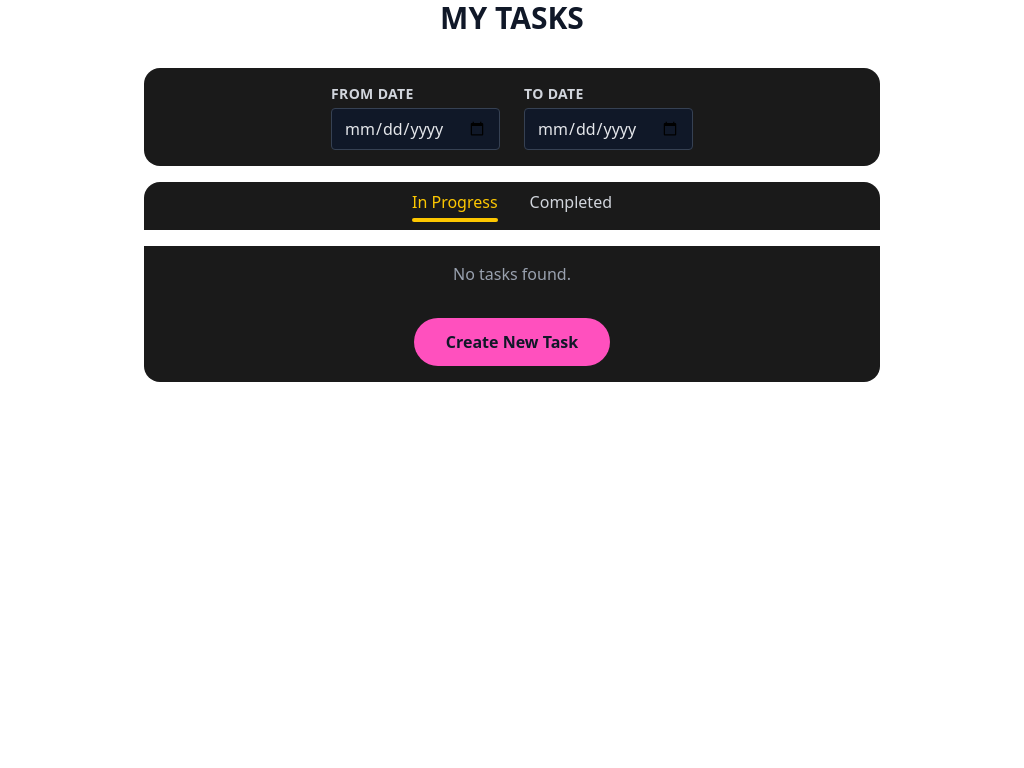
Test: Adds a new task
Click the button "Create New Task" at (512, 342), box [414,318,610,366]
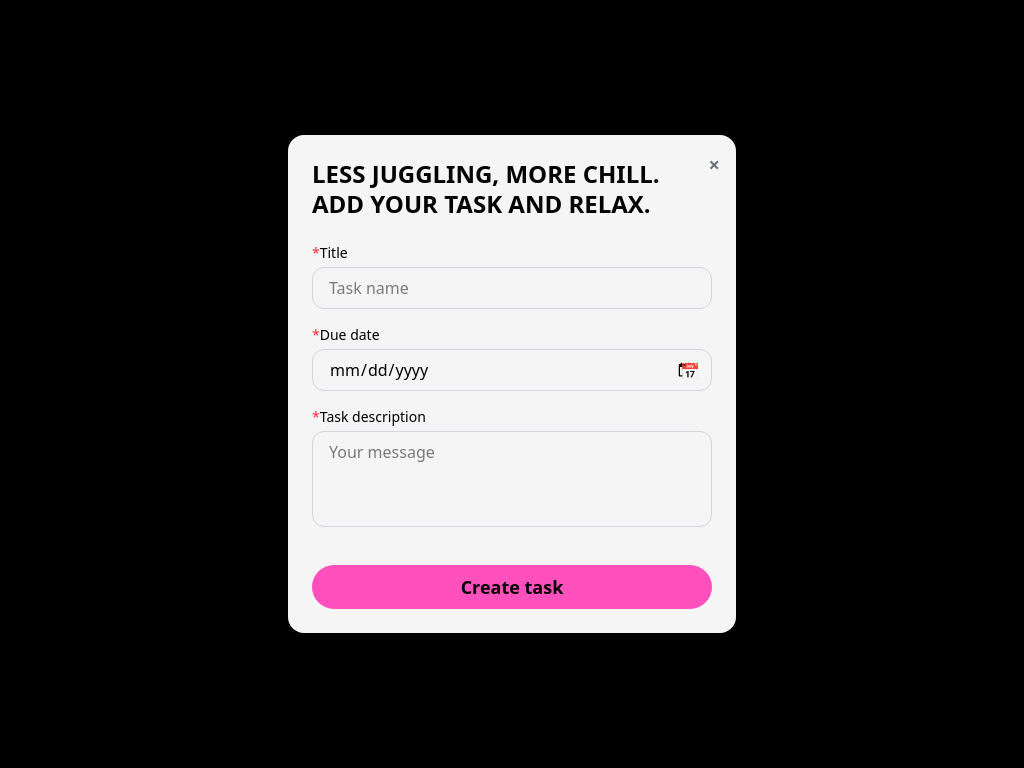
Type "New Task" into the field with test id "input-title" at (512, 288), box [312,267,712,309]
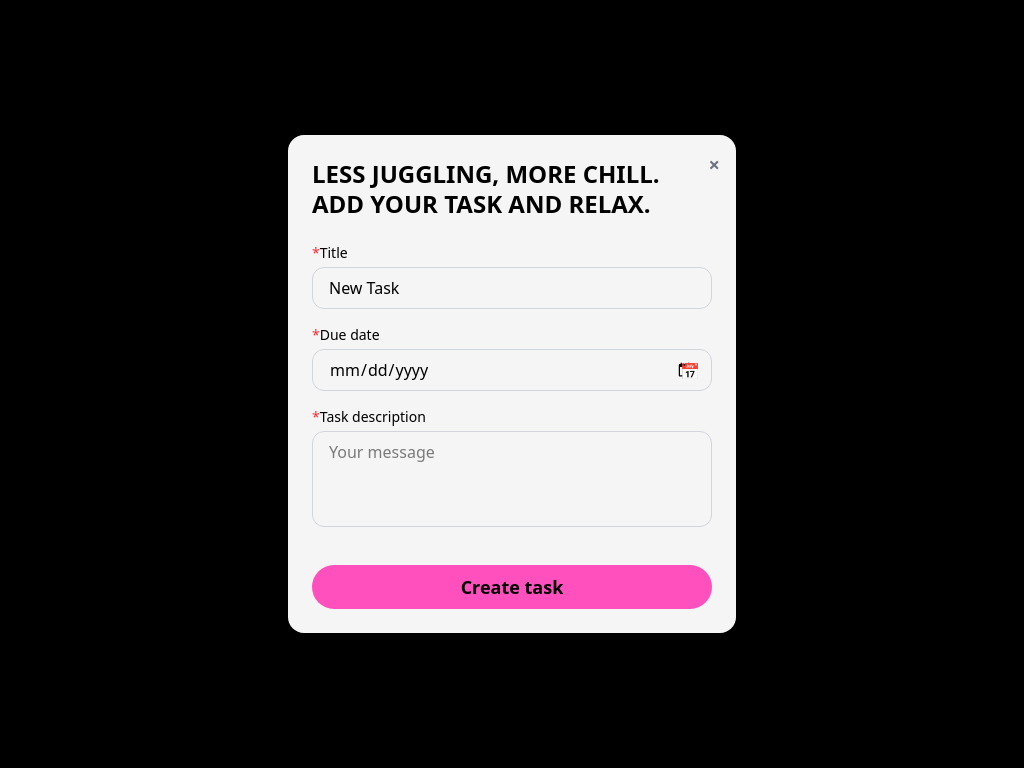
Type "Test desc" into the text box with test id "input-description" at (512, 479), box [312,431,712,527]
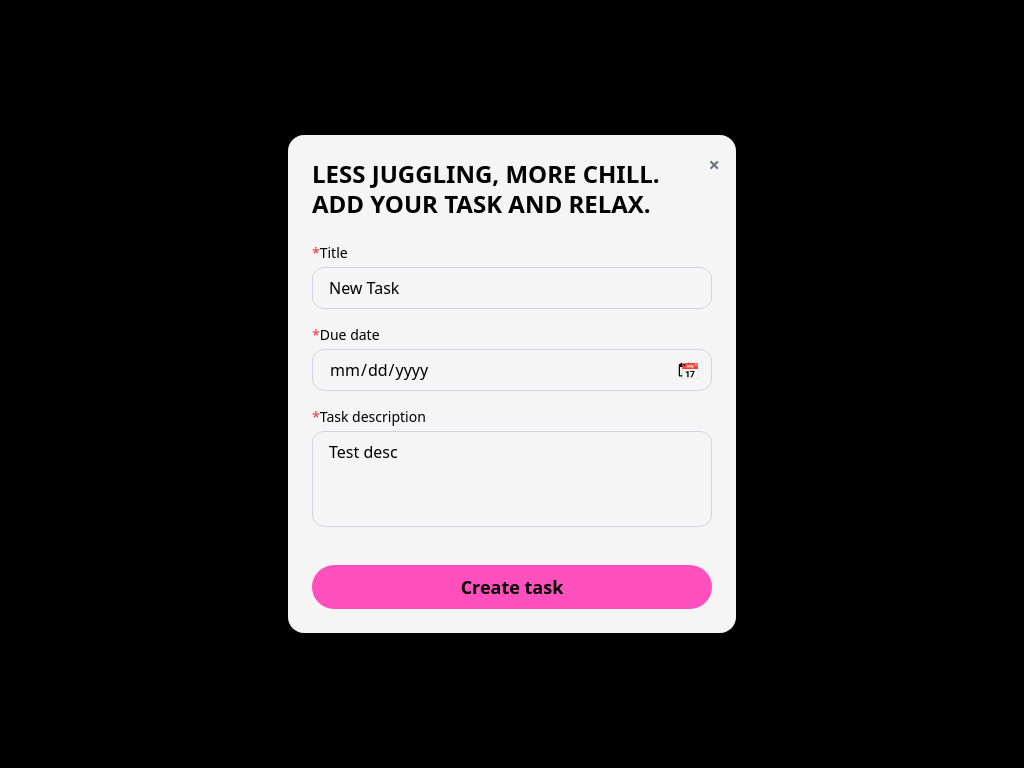
Click the button with test id "btn-submit" at (512, 587), box [312,565,712,609]
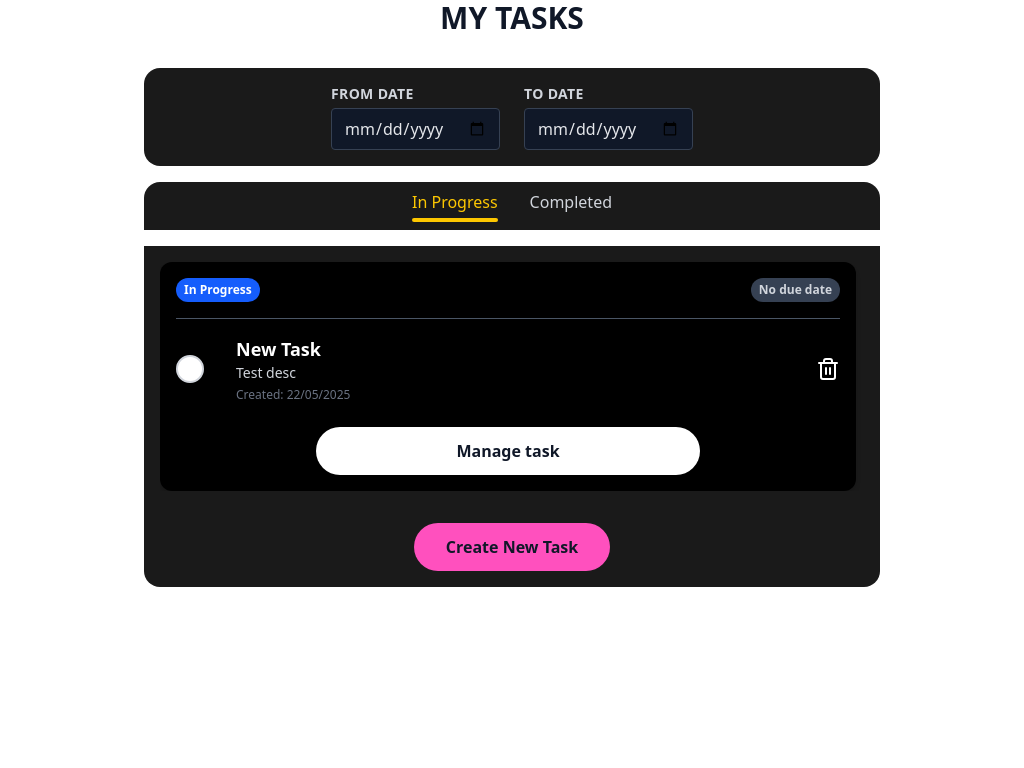
Expected: the heading "New Task" is shown, [236,337,321,361]
